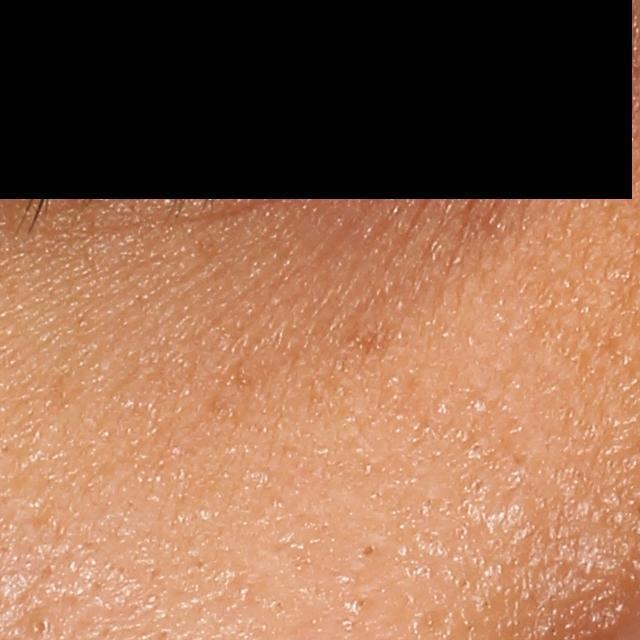comedo: (27, 613, 54, 640), (361, 541, 377, 560)
melasma: (331, 323, 401, 364)
